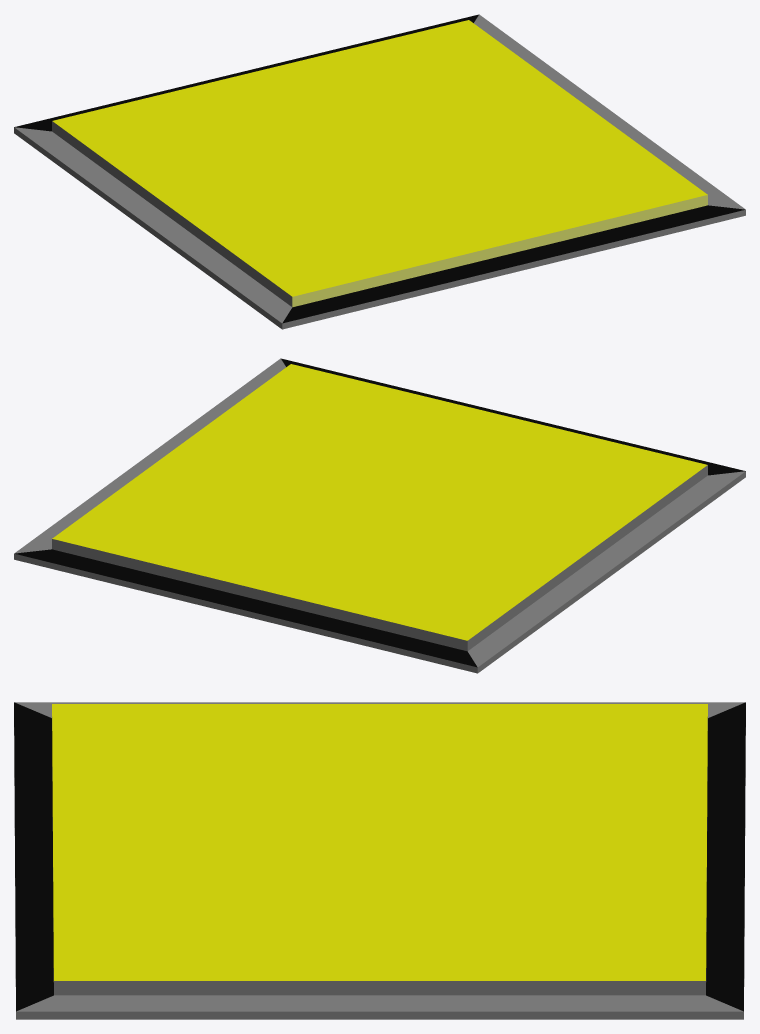
Rendered from localMaquinario.fbx.
3 views of the same model, one above another, from view 1: azimuth 30°, elevation 25°; view 2: azimuth 150°, elevation 25°; view 3: azimuth 270°, elevation 25° (orthographic). The views are drawn at different scales.
Visible parts, largest first — view 1: Cube; view 2: Cube; view 3: Cube.
Part boxes in pixels (x1=…): Cube: x1=14, y1=14, x2=745, y2=329; Cube: x1=14, y1=358, x2=745, y2=673; Cube: x1=14, y1=702, x2=745, y2=1019.
Bounding box in the file's own units: 200 × 6.84 × 200.
